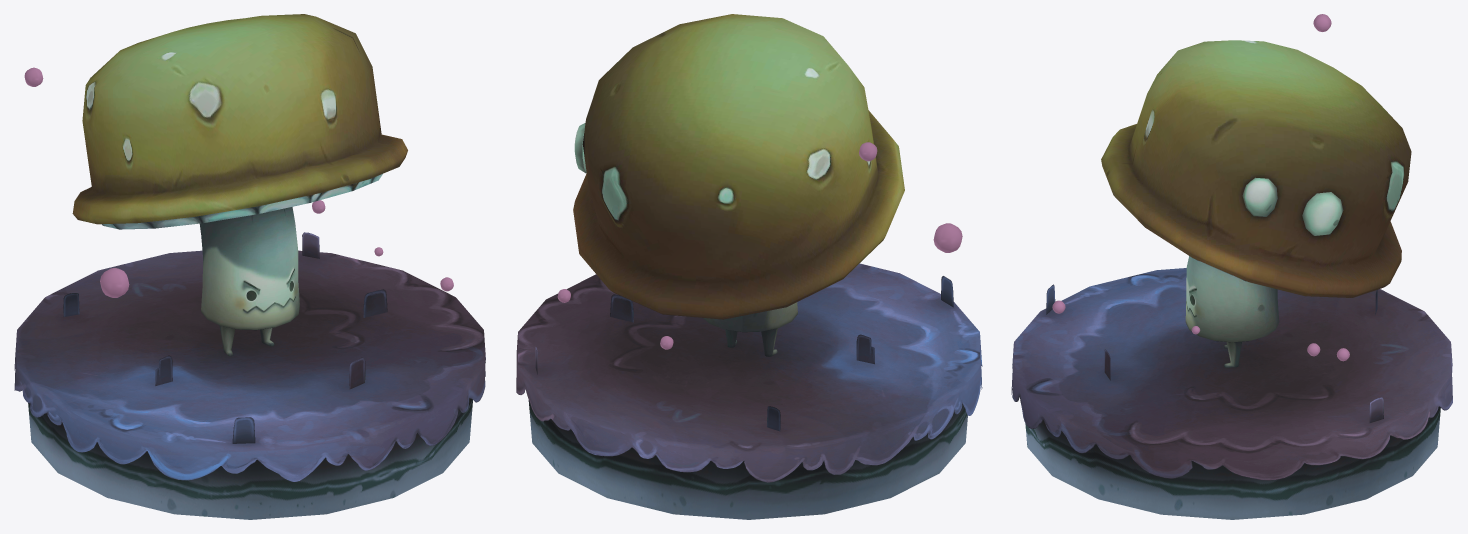
The model's file is mushroom98.gltf.
3 views of the same model, side by side, from view 1: azimuth 30°, elevation 25°; view 2: azimuth 150°, elevation 25°; view 3: azimuth 270°, elevation 25° (orthographic). The views are drawn at different scales.
Parts seen in each view (by area): view 1: Mesh_0, Mesh_1; view 2: Mesh_0, Mesh_1; view 3: Mesh_0, Mesh_1.
Part boxes in pixels (<box>): Mesh_0: <box>14,67,485,519</box>; Mesh_1: <box>72,14,407,356</box>; Mesh_0: <box>516,142,982,519</box>; Mesh_1: <box>573,14,904,356</box>; Mesh_0: <box>1011,14,1452,519</box>; Mesh_1: <box>1101,40,1411,367</box>.
Bounding box in the file's own units: 2.97 × 2.71 × 2.92.
2 materials, 2 textured.
